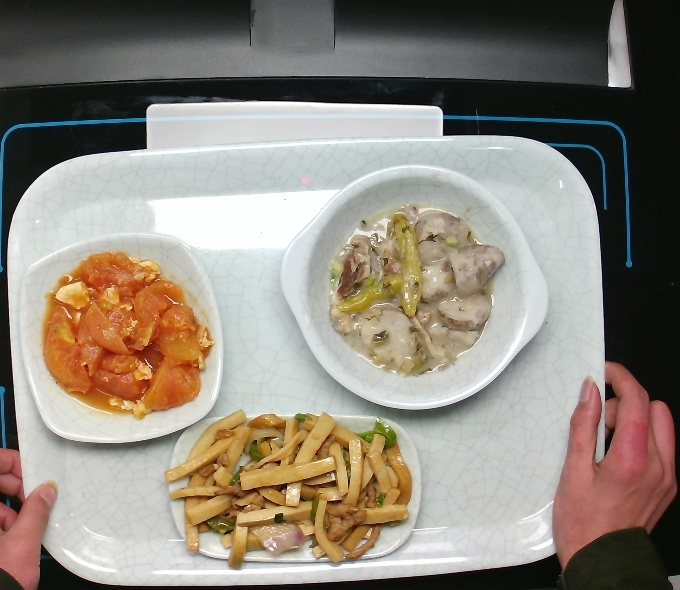wcq-FanQieChaoDan: (38, 248, 216, 425)
wcq-QianYeDouFu: (163, 409, 415, 568)
wcq-YangYu: (324, 196, 510, 381)
